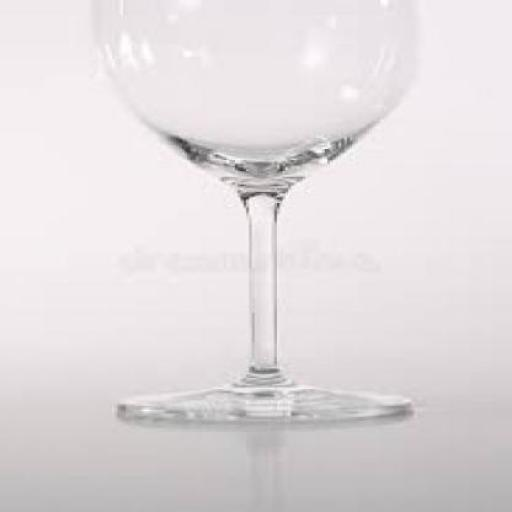glass: (92, 0, 412, 423)
